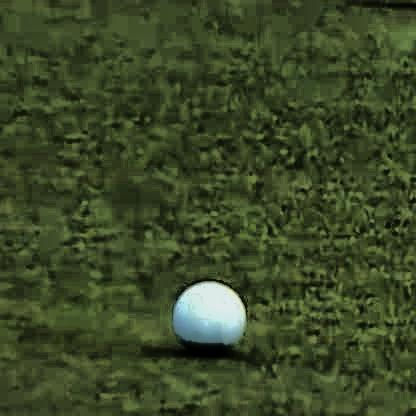golfball: (171, 273, 242, 350)
